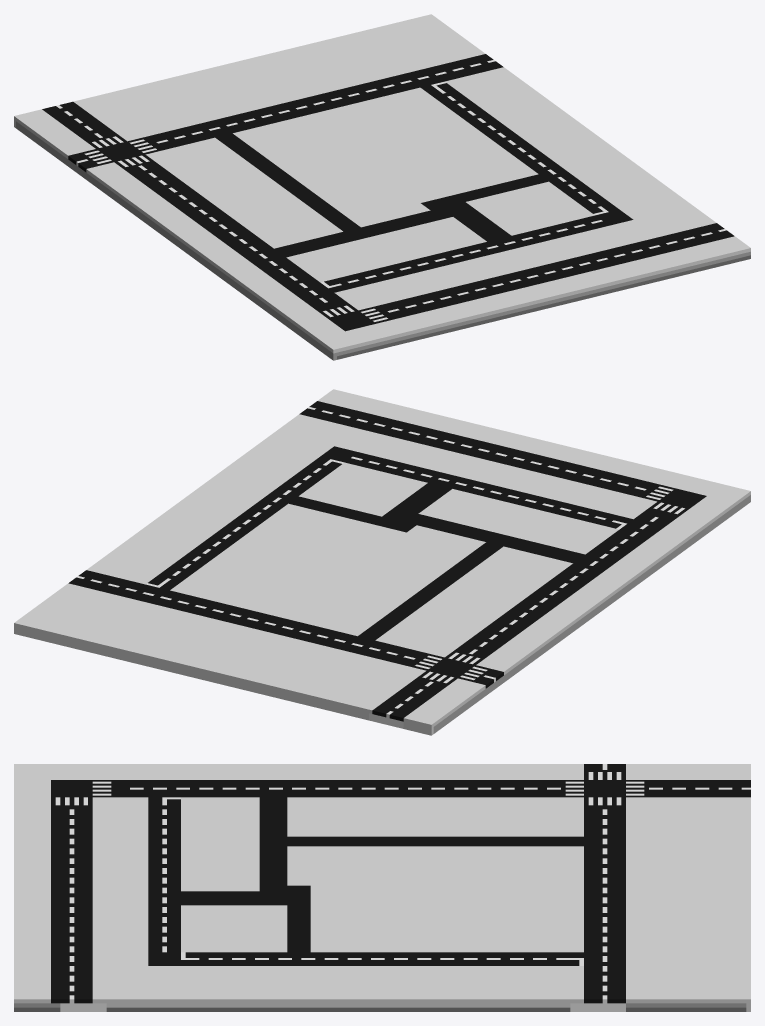
The model's file is road name final version.obj.
The picture shows the model from 3 angles, top to bottom: view 1: azimuth 30°, elevation 25°; view 2: azimuth 150°, elevation 25°; view 3: azimuth 270°, elevation 25°; orthographic projection. The views are drawn at different scales.
Size of the model in its own units: 12 by 0.3 by 15.9.
1 material, 1 textured.
